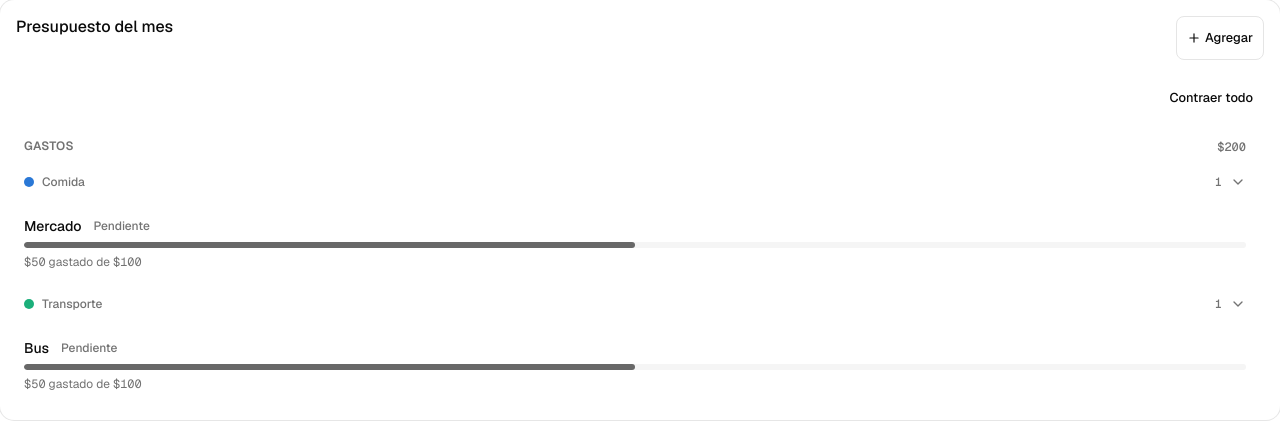
Test: PanelPresupuesto: contraer/desplegar todo › con una categoría cerrada de varias, una pista discreta cuenta cuántas y las vuelve a mostrar
The width and height of the screenshot is (1280, 438).
Check: the text "1 categoría cerrada" is not shown
Click the button "Comida 1".
click(63, 182)  # box [16,160,1254,204]
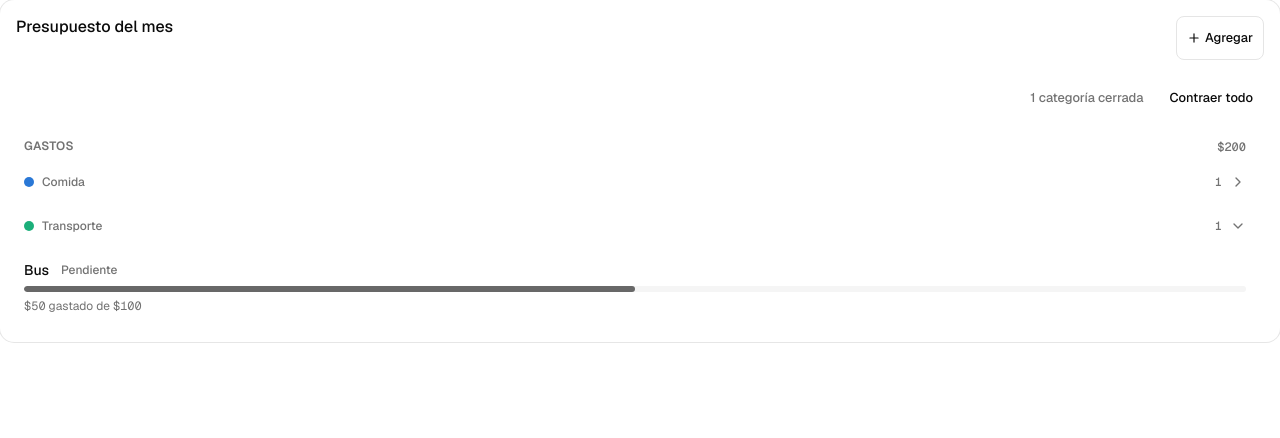
Check: the button with aria-label "Desplegar 1 categoría cerrada" reads "1 categoría cerrada"
Click the button with aria-label "Desplegar 1 categoría cerrada".
click(1087, 98)  # box [1019,76,1154,120]
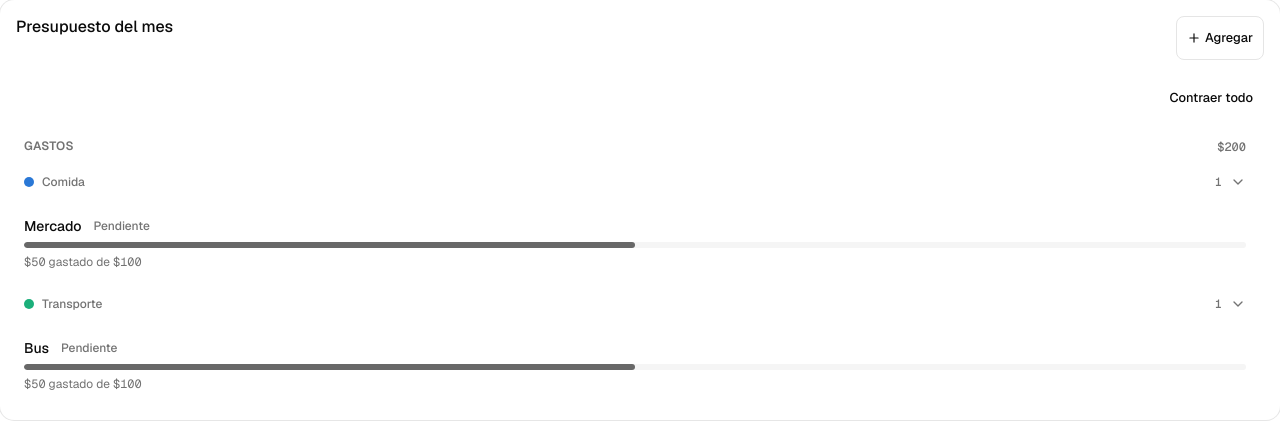
Check: the button "1 categoría cerrada" is gone
